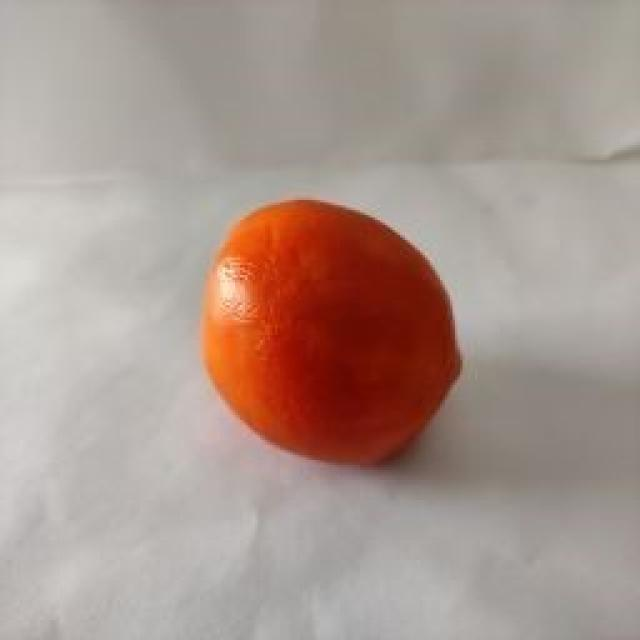Ripe: (204, 198, 466, 473)
